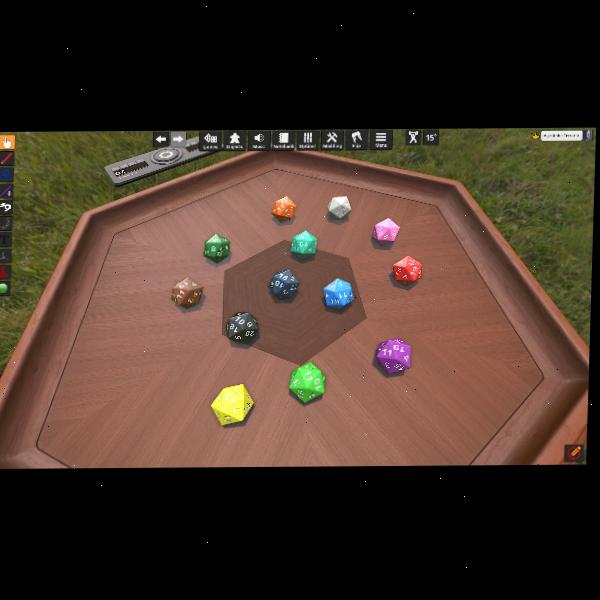d20: (211, 383, 255, 425), (289, 362, 324, 401), (377, 337, 411, 373), (225, 310, 259, 342), (171, 276, 203, 309), (323, 278, 354, 309), (268, 269, 299, 299), (394, 254, 422, 286), (290, 232, 316, 260), (204, 233, 230, 260), (271, 195, 297, 222), (376, 217, 400, 245), (327, 196, 351, 219)
